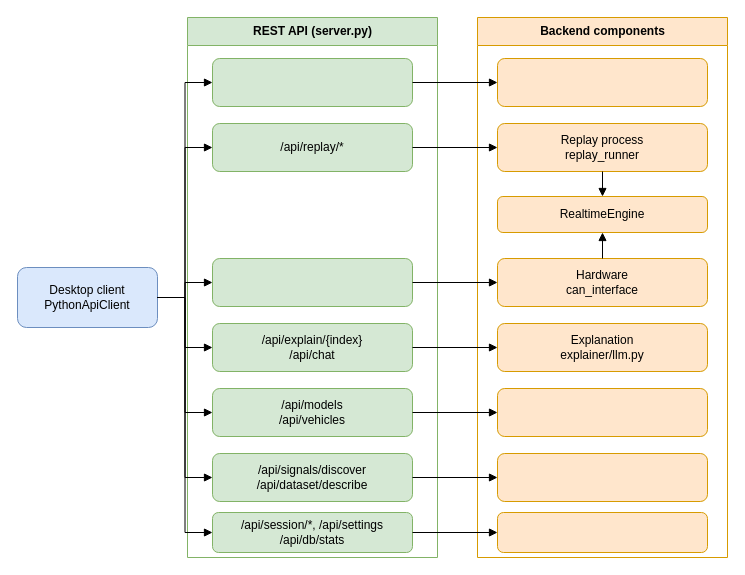
The diagram is 745 pixels wide and 575 high, and some of its shapes have lost their labels. The shapes that lost their labels are listed below. From the top down, each one's box as (x1, y1, x2, y2) in pixels, then its label:
(212, 58, 412, 106): /analyze /api/offline/*
(496, 58, 708, 106): Offline analysis vehicle_scoring, session_analyzer
(212, 258, 412, 306): /api/live/* /api/live/hardware/*
(496, 388, 708, 436): Model status model_status, vehicle_profiles
(496, 452, 708, 502): Capture description signal_discovery, dataset_facts
(496, 512, 708, 552): SQLite store and settings
